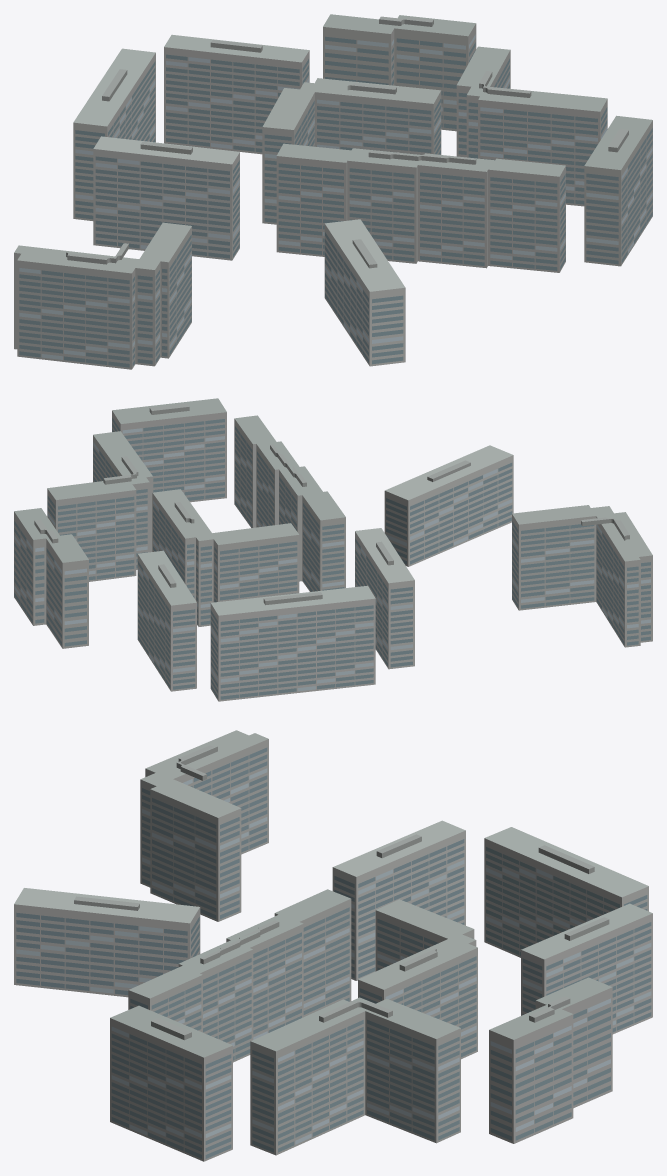
Rendered from apt-a15677204.glb.
3 views of the same model, one above another, from view 1: azimuth 30°, elevation 25°; view 2: azimuth 150°, elevation 25°; view 3: azimuth 270°, elevation 25° (orthographic). The views are drawn at different scales.
Parts seen in each view (by area): view 1: apt-a15677204; view 2: apt-a15677204; view 3: apt-a15677204.
Boxes of the visible parts, x1,y1,x2,y2 form: apt-a15677204: (14,14,652,369); apt-a15677204: (14,398,652,701); apt-a15677204: (14,730,652,1161).
Size of the model in its own units: 258 by 40 by 212.
